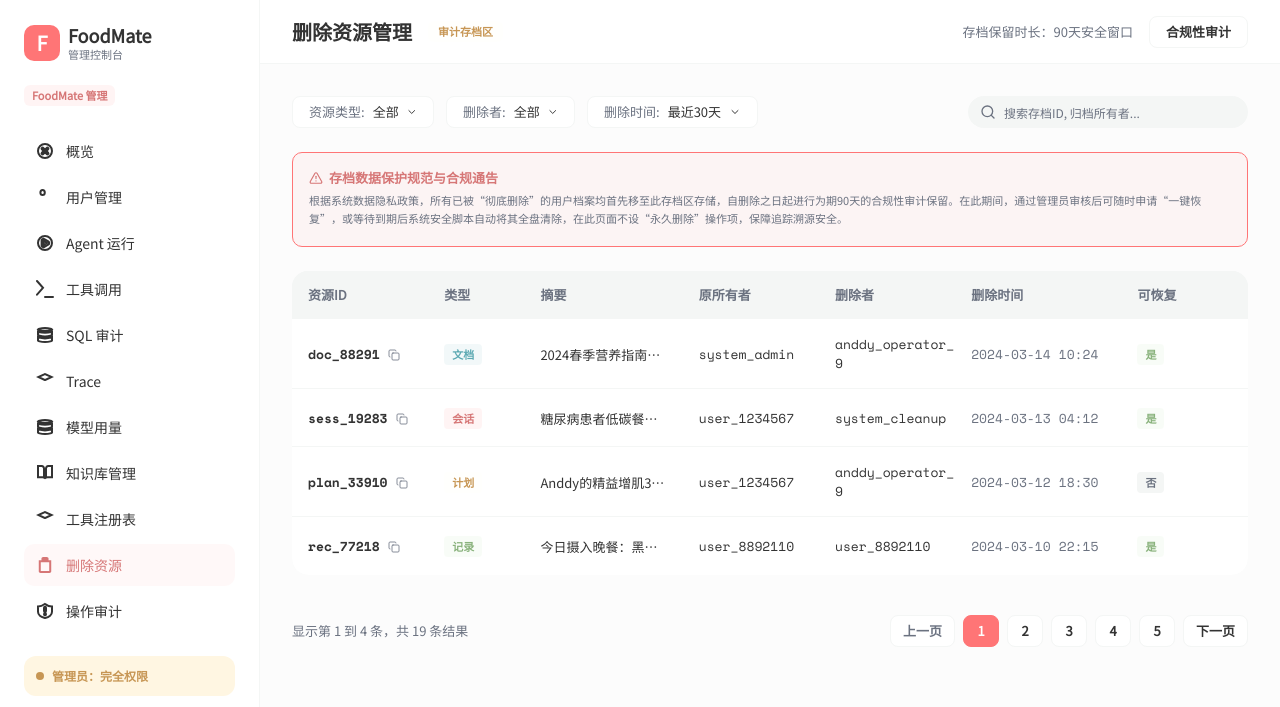
Admin deleted resources › filters by resource type and archive owner query
The image size is (1280, 707).
Click the dropdown named "资源类型筛选".
click(363, 112)  # box [292,96,434,128]
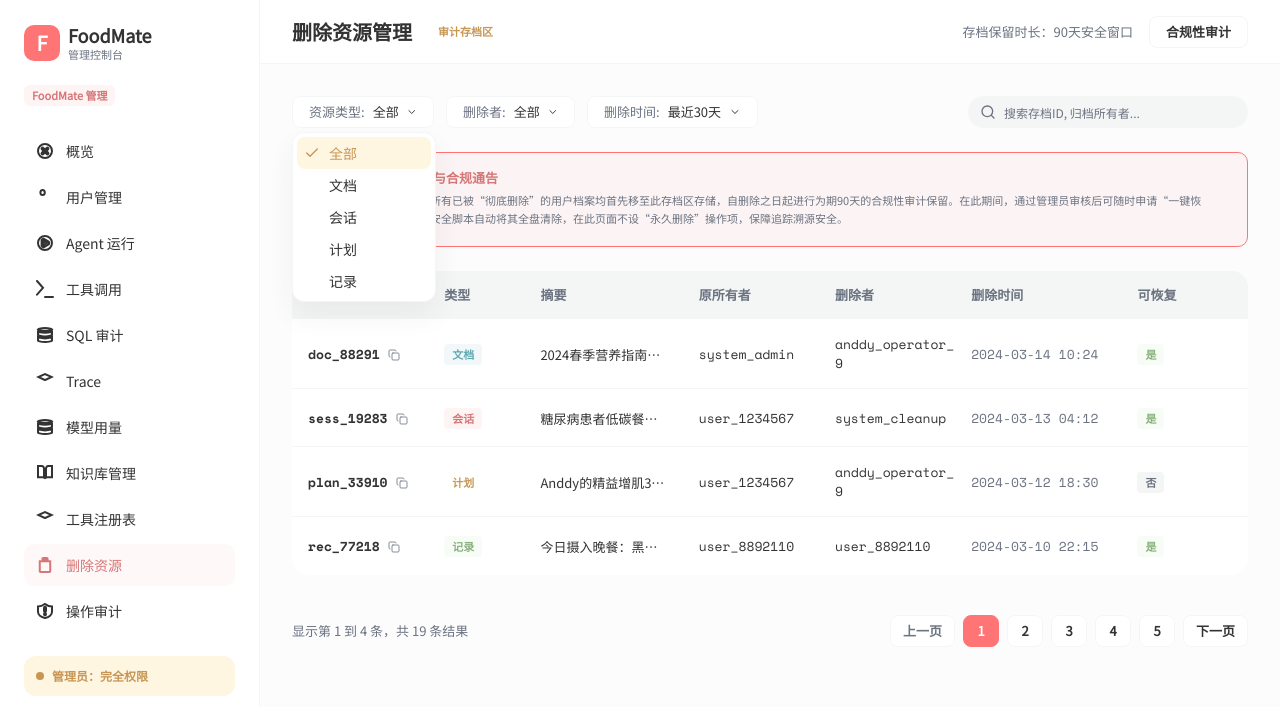
Click the option "计划".
click(343, 249)  # box [329,239,357,259]
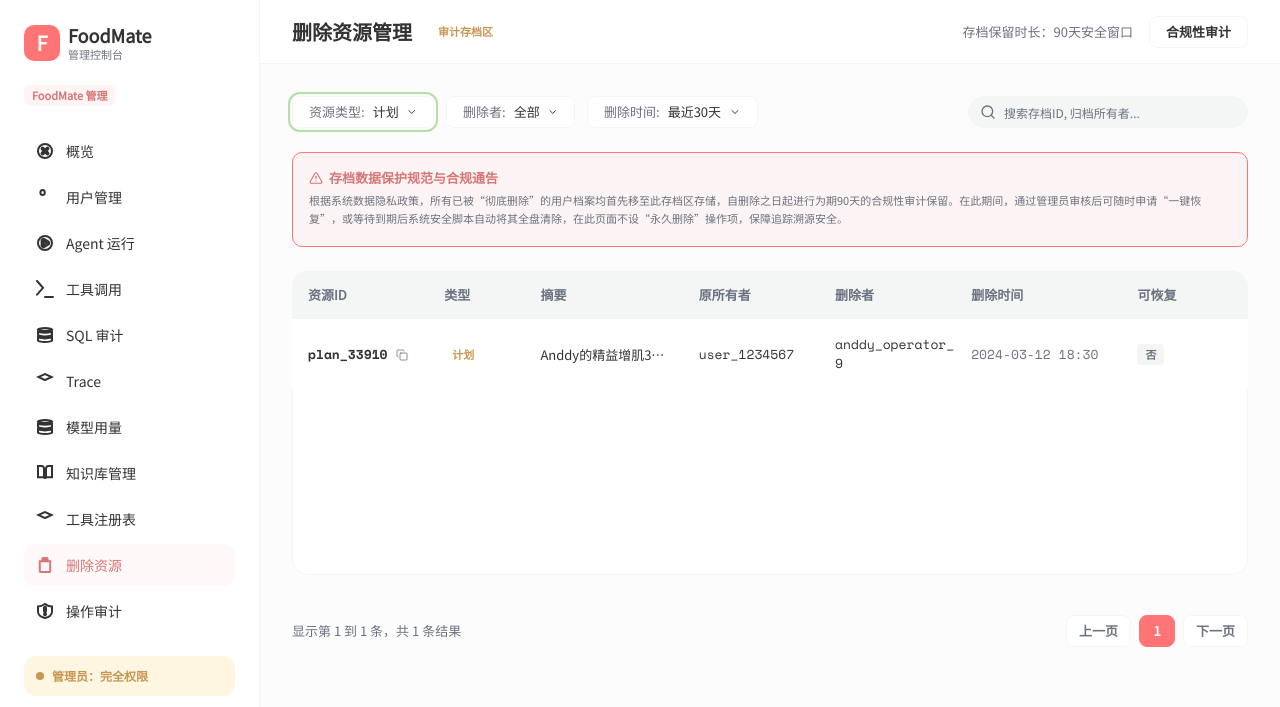
Expected: the text "plan_33910" is shown, [308,345,388,364]
Result: the text "doc_88291" is gone
Type "system_admin" into the field named "搜索存档ID或归档所有者".
click(1120, 112); type("system_admin")  # box [1004,97,1236,127]
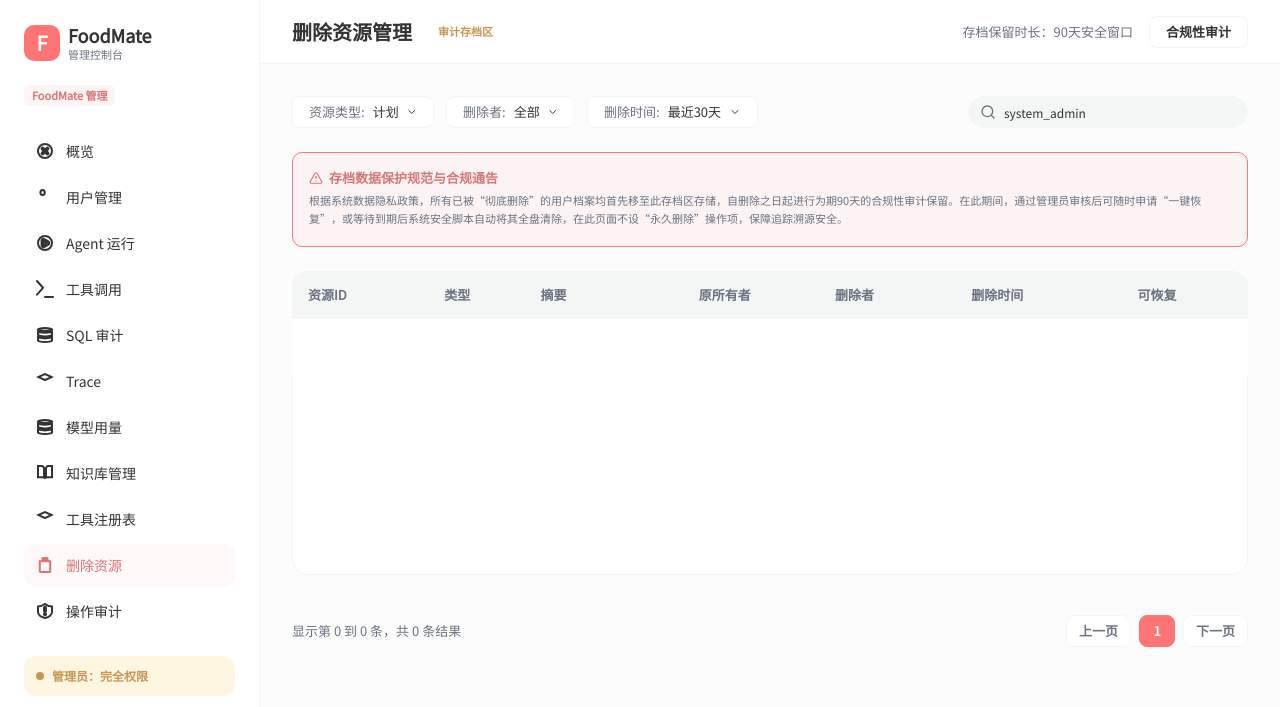
Result: the text "显示第 0 到 0 条，共 0 条结果" is shown at [292,623,461,639]
